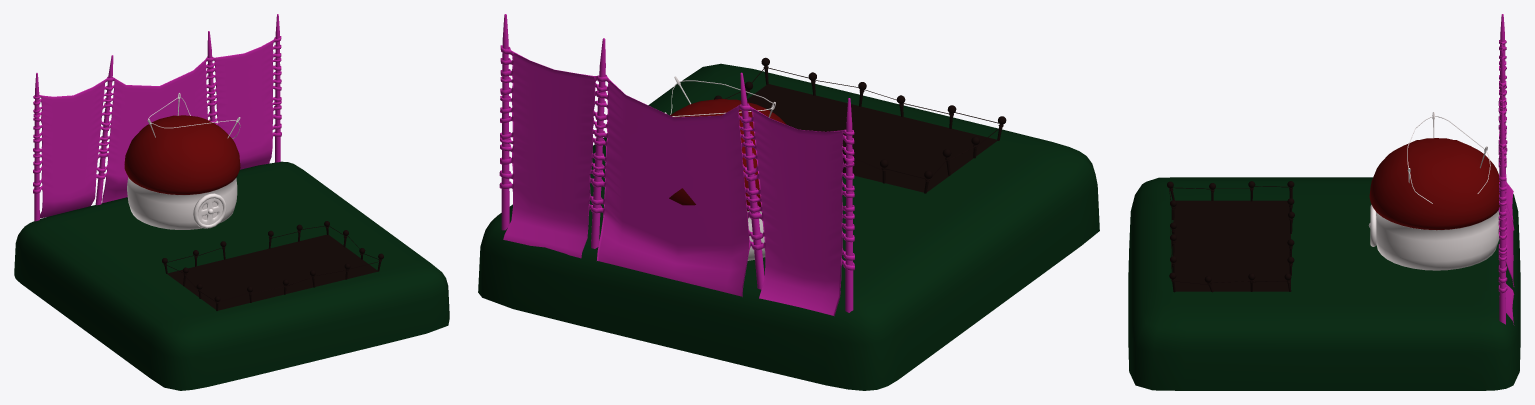
3 renders of one model, left to right at view 1: azimuth 30°, elevation 25°; view 2: azimuth 150°, elevation 25°; view 3: azimuth 270°, elevation 25°, orthographic. The views are drawn at different scales.
Parts seen in each view (by area): view 1: DIORAMA_FLOOR, LAINE_BOUCLE, Woolyson001, SOL_cultivabl, Cylinder001, Cone003, Cone002, Cone004, Line002; view 2: DIORAMA_FLOOR, LAINE_BOUCLE, SOL_cultivabl, Woolyson001, Cone003, Cone002, Cone004, Cone001, Line002; view 3: DIORAMA_FLOOR, Woolyson001, SOL_cultivabl, LAINE_BOUCLE, Cone004, Line002.
Part boxes in pixels (<box>): DIORAMA_FLOOR: <box>14,161,449,390</box>; LAINE_BOUCLE: <box>33,36,281,218</box>; Woolyson001: <box>124,115,240,229</box>; SOL_cultivabl: <box>167,234,377,310</box>; Cylinder001: <box>193,193,226,228</box>; Cone003: <box>34,73,39,221</box>; Cone002: <box>95,55,113,205</box>; Cone004: <box>275,14,280,162</box>; Line002: <box>164,226,381,302</box>; DIORAMA_FLOOR: <box>478,63,1099,390</box>; LAINE_BOUCLE: <box>499,45,854,316</box>; SOL_cultivabl: <box>747,84,997,192</box>; Woolyson001: <box>669,98,785,260</box>; Cone003: <box>845,98,853,312</box>; Cone002: <box>740,72,764,289</box>; Cone004: <box>501,14,509,230</box>; Cone001: <box>591,38,605,248</box>; Line002: <box>725,67,1003,179</box>; DIORAMA_FLOOR: <box>1128,177,1520,390</box>; Woolyson001: <box>1369,138,1499,270</box>; SOL_cultivabl: <box>1173,200,1290,291</box>; LAINE_BOUCLE: <box>1498,40,1514,325</box>; Cone004: <box>1499,150,1505,324</box>; Line002: <box>1169,186,1292,284</box>.
Size of the model in its own units: 1959 by 1290 by 2002.
